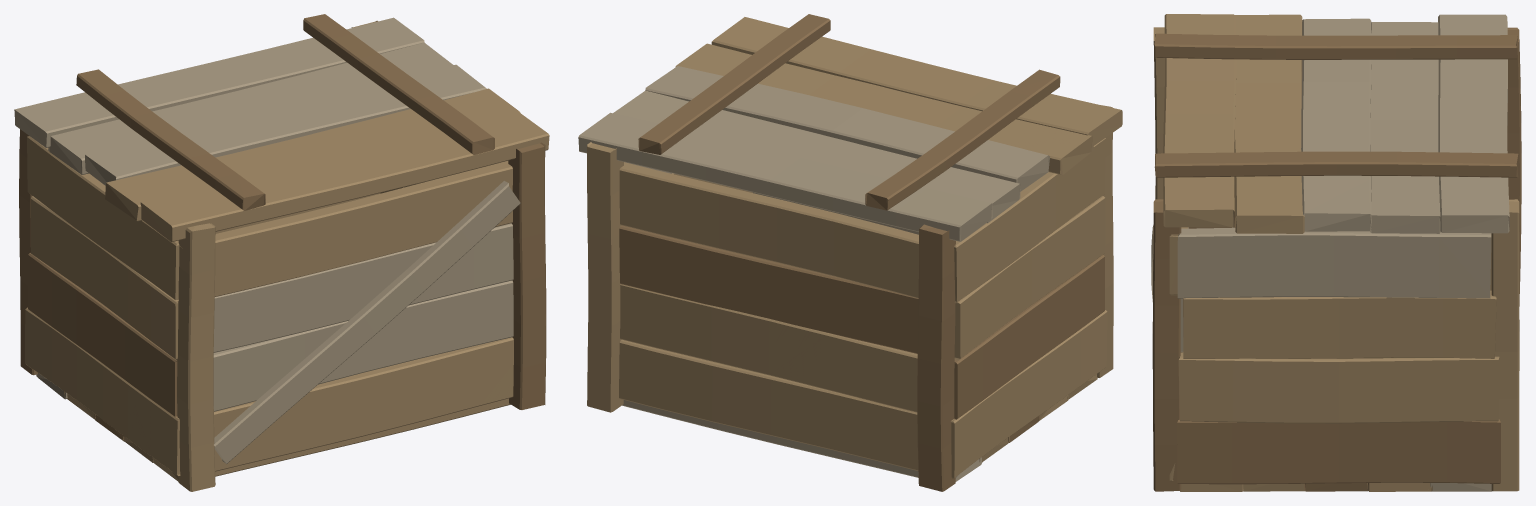
File: crate_blockout.glb
The picture shows the model from 3 angles, left to right: view 1: azimuth 30°, elevation 25°; view 2: azimuth 150°, elevation 25°; view 3: azimuth 270°, elevation 25°; orthographic projection. The views are drawn at different scales.
Visible parts, largest first — view 1: GEO-CrateBody-Wood-Warm, GEO-CrateBody-Wood-Grey, GEO-CrateLid-Wood-Grey, GEO-CrateLid-Wood-Warm, GEO-CrateBody-Wood-Dark, GEO-CrateLid-Wood-Dark; view 2: GEO-CrateBody-Wood-Warm, GEO-CrateLid-Wood-Grey, GEO-CrateBody-Wood-Dark, GEO-CrateLid-Wood-Warm, GEO-CrateLid-Wood-Dark, GEO-CrateBody-Wood-Grey; view 3: GEO-CrateBody-Wood-Warm, GEO-CrateLid-Wood-Grey, GEO-CrateBody-Wood-Dark, GEO-CrateLid-Wood-Warm, GEO-CrateBody-Wood-Grey, GEO-CrateLid-Wood-Dark.
Part boxes in pixels (x1,y1,x2,y2): GEO-CrateBody-Wood-Warm: (25, 20, 513, 491); GEO-CrateBody-Wood-Grey: (36, 181, 520, 463); GEO-CrateLid-Wood-Grey: (14, 17, 486, 185); GEO-CrateLid-Wood-Warm: (105, 88, 549, 241); GEO-CrateBody-Wood-Dark: (19, 129, 546, 441); GEO-CrateLid-Wood-Dark: (76, 14, 494, 210); GEO-CrateBody-Wood-Warm: (587, 105, 1113, 478); GEO-CrateLid-Wood-Grey: (578, 66, 1049, 241); GEO-CrateBody-Wood-Dark: (619, 224, 1104, 491); GEO-CrateLid-Wood-Warm: (675, 17, 1122, 175); GEO-CrateLid-Wood-Dark: (638, 14, 1060, 210); GEO-CrateBody-Wood-Grey: (622, 163, 982, 481); GEO-CrateBody-Wood-Warm: (1153, 27, 1519, 491); GEO-CrateLid-Wood-Grey: (1301, 14, 1509, 233); GEO-CrateBody-Wood-Dark: (1152, 27, 1521, 491); GEO-CrateLid-Wood-Warm: (1163, 14, 1304, 233); GEO-CrateBody-Wood-Grey: (1151, 226, 1492, 491); GEO-CrateLid-Wood-Dark: (1154, 33, 1518, 177).
Size of the model in its own units: 1.1 by 0.7804 by 0.8552.
